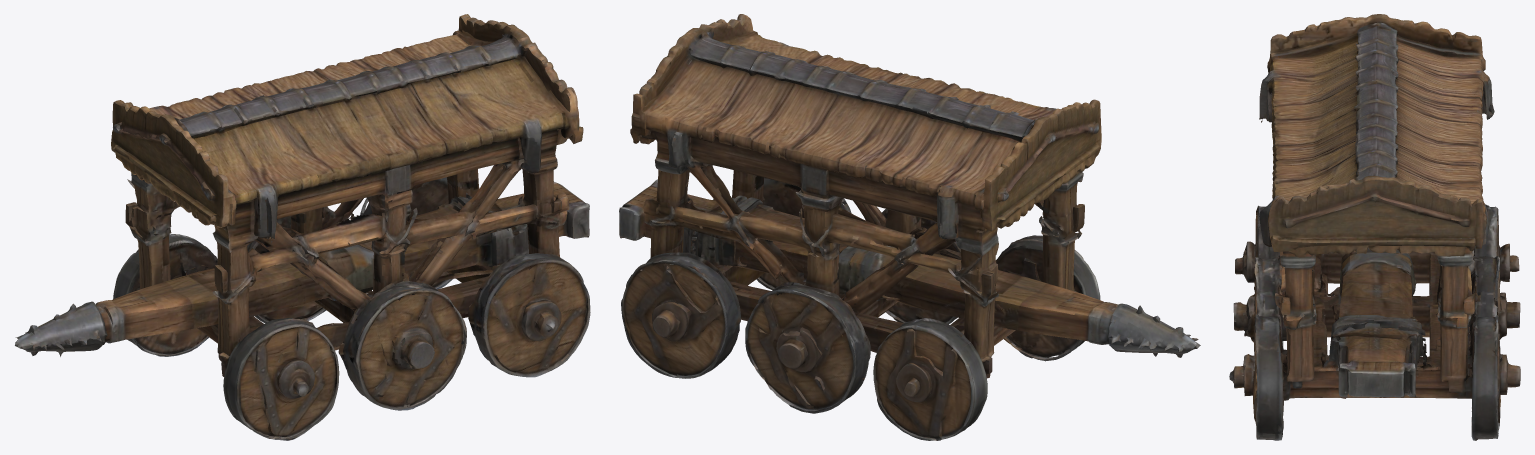
The model's file is covered_ram__battering-ram.glb.
3 renders of one model, left to right at view 1: azimuth 30°, elevation 25°; view 2: azimuth 150°, elevation 25°; view 3: azimuth 270°, elevation 25°, orthographic. The views are drawn at different scales.
Size of the model in its own units: 2 by 0.9965 by 0.9363.
1 material, 1 textured.
